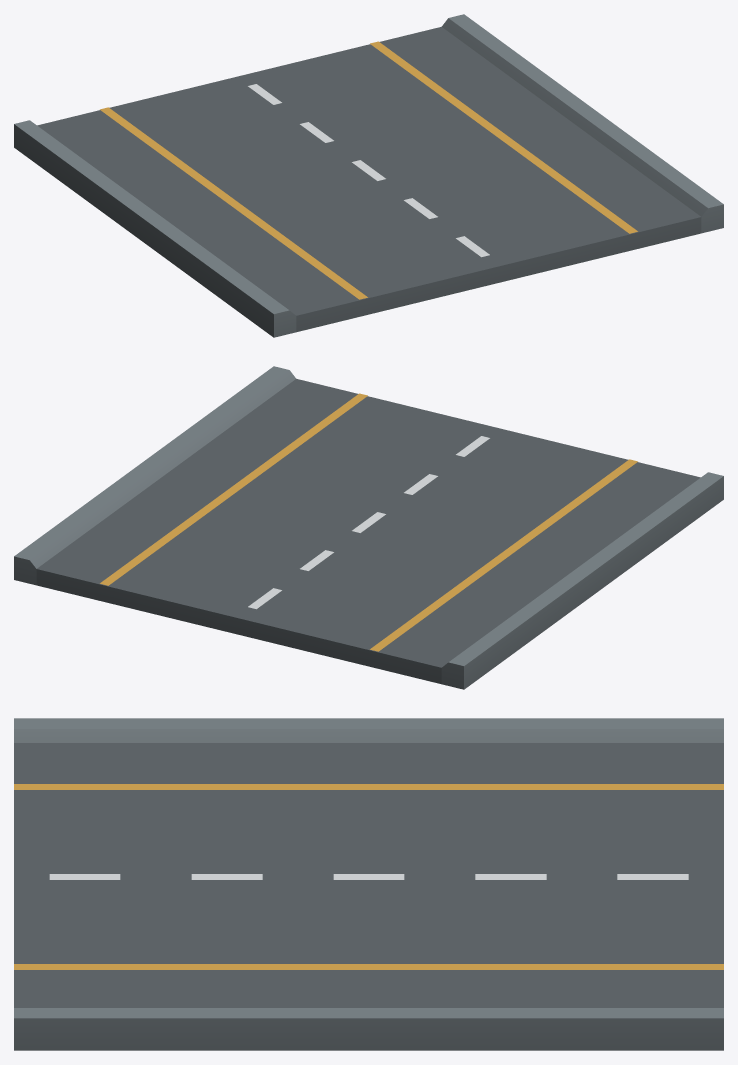
File: road_straight.obj
The picture shows the model from 3 angles, top to bottom: view 1: azimuth 30°, elevation 25°; view 2: azimuth 150°, elevation 25°; view 3: azimuth 270°, elevation 25°; orthographic projection. The views are drawn at different scales.
Size of the model in its own units: 2 by 0.1 by 2.
1 material, 1 textured.
